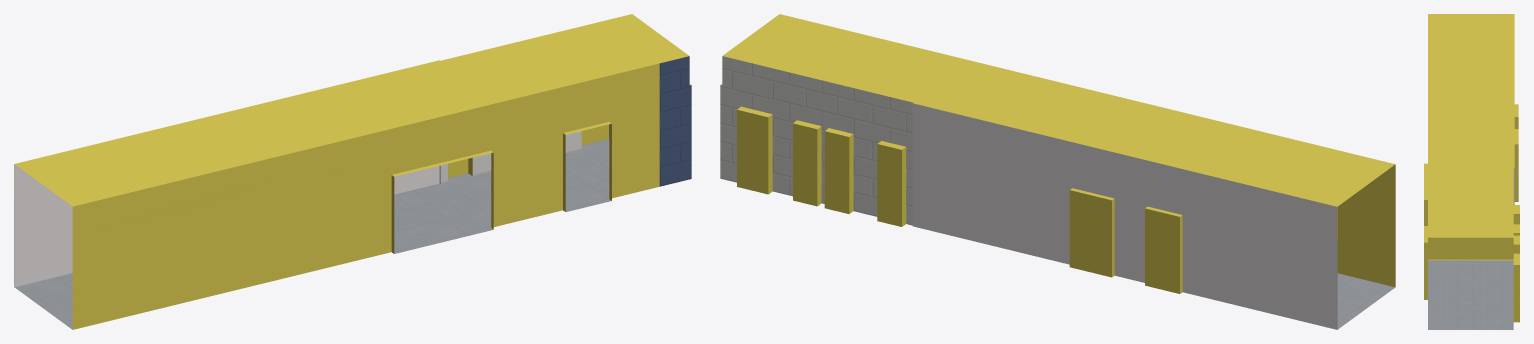
Rendered from SW_corridor__R_lobby_R_Aula_Kautava2_001.FBX.
3 views of the same model, side by side, from view 1: azimuth 30°, elevation 25°; view 2: azimuth 150°, elevation 25°; view 3: azimuth 270°, elevation 25° (orthographic). The views are drawn at different scales.
Visible parts, largest first — view 1: SW_corridor__R_lobby_R_Aula_Kautava2_001; view 2: SW_corridor__R_lobby_R_Aula_Kautava2_001; view 3: SW_corridor__R_lobby_R_Aula_Kautava2_001.
Boxes of the visible parts, <box> form: SW_corridor__R_lobby_R_Aula_Kautava2_001: <box>14,14,691,329</box>; SW_corridor__R_lobby_R_Aula_Kautava2_001: <box>720,14,1395,329</box>; SW_corridor__R_lobby_R_Aula_Kautava2_001: <box>1424,14,1519,329</box>.
Size of the model in its own units: 1759 by 317 by 335.
